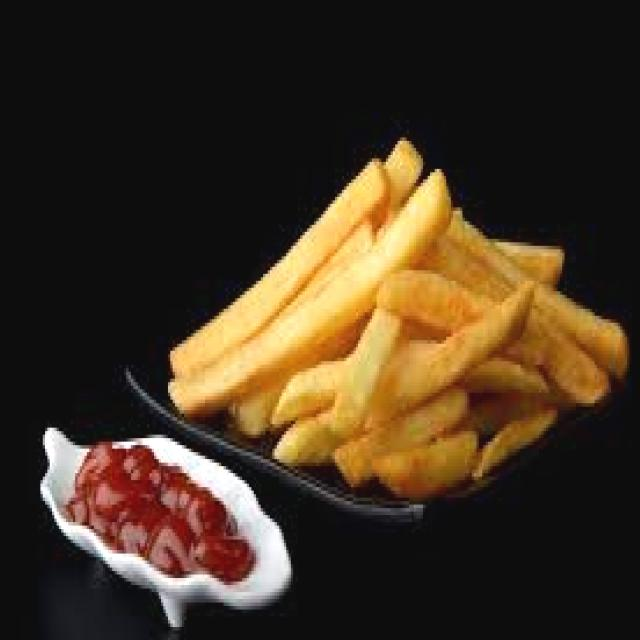kentang goreng: (165, 140, 624, 504)
